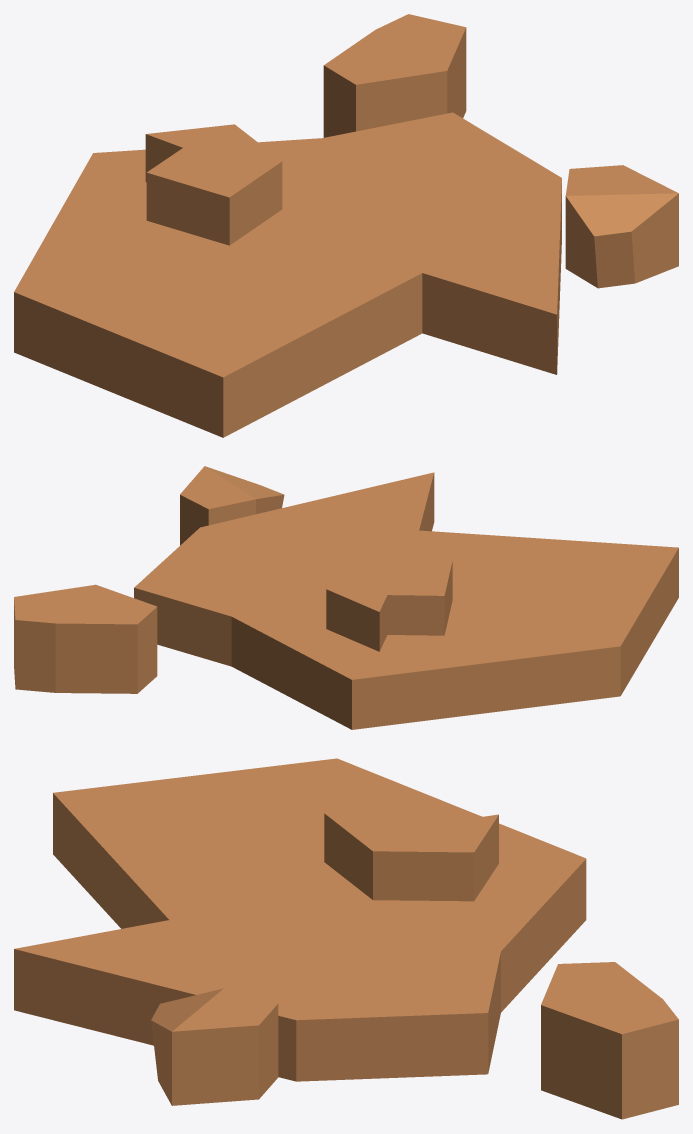
The model's file is SandRocks14_LOD1.fbx.
3 views of the same model, one above another, from view 1: azimuth 30°, elevation 25°; view 2: azimuth 150°, elevation 25°; view 3: azimuth 270°, elevation 25° (orthographic). The views are drawn at different scales.
Visible parts, largest first — view 1: 14; view 2: 14; view 3: 14.
Boxes of the visible parts, x1,y1,x2,y2 form: 14: (14,14,678,437); 14: (14,466,678,729); 14: (14,758,678,1119).
Size of the model in its own units: 49.8 by 9.19 by 47.64.
